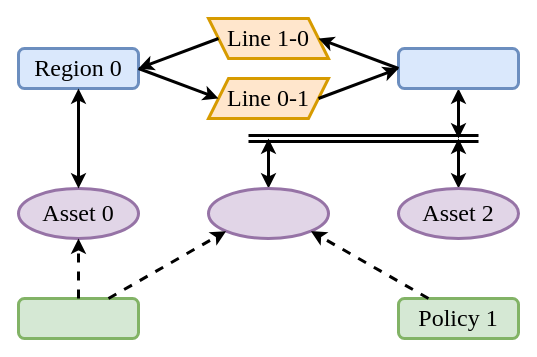
Image size: 537x357. Some labels were removed from this diagram. The centre of each missing label's shape, as x and y in pixels:
Asset 1: point 268,213
Policy 0: point 78,318
Region 1: point 458,68
